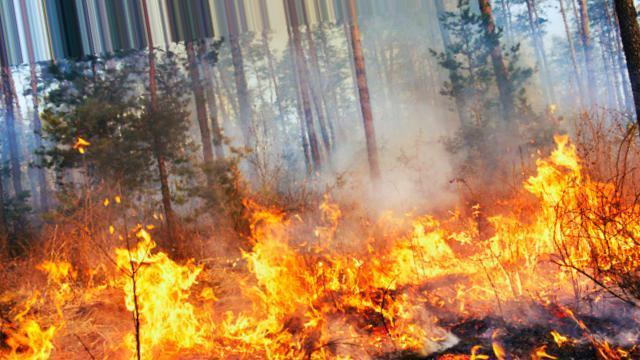fire: (36, 145, 629, 351)
